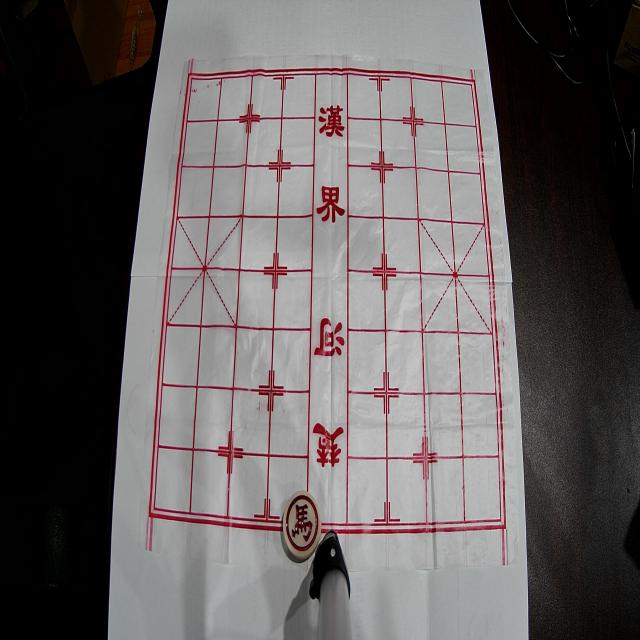red-horse: (283, 490, 321, 560)
